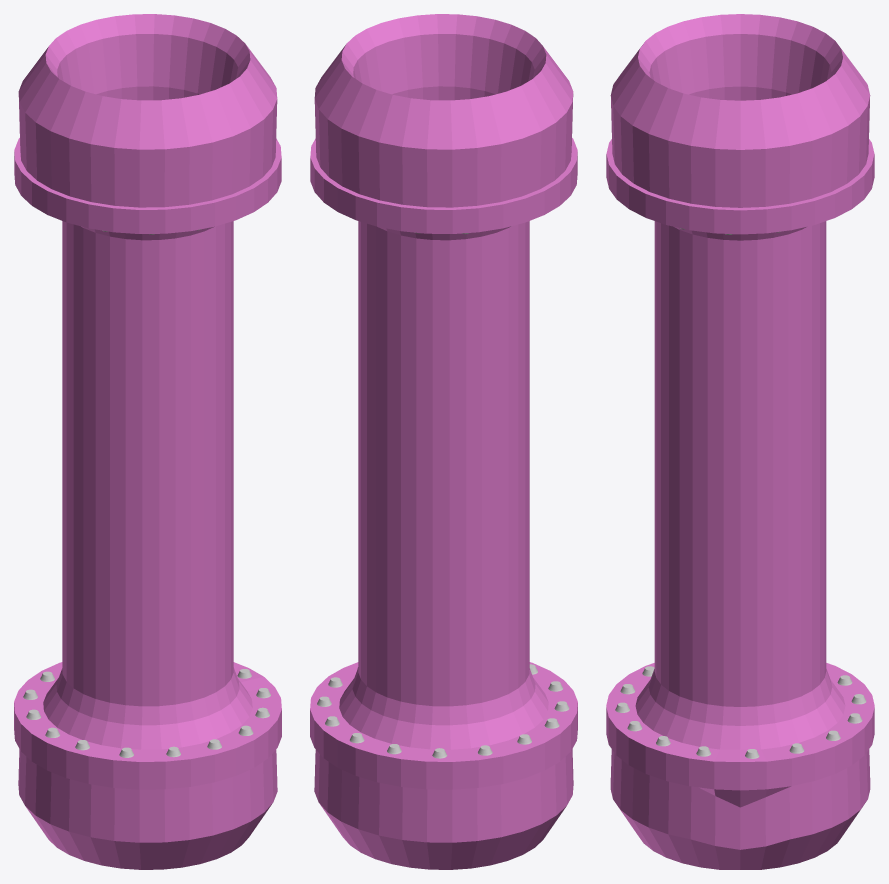
The model's file is start_pipe.fbx.
3 renders of one model, left to right at view 1: azimuth 30°, elevation 25°; view 2: azimuth 150°, elevation 25°; view 3: azimuth 270°, elevation 25°, orthographic.
Parts seen in each view (by area): view 1: Cylinder.299; view 2: Cylinder.299; view 3: Cylinder.299.
Part boxes in pixels (box(x1,y1,x2,y2)): Cylinder.299: box(14, 14, 281, 869); Cylinder.299: box(310, 14, 577, 869); Cylinder.299: box(606, 14, 874, 869).
Size of the model in its own units: 168 by 529 by 168.
